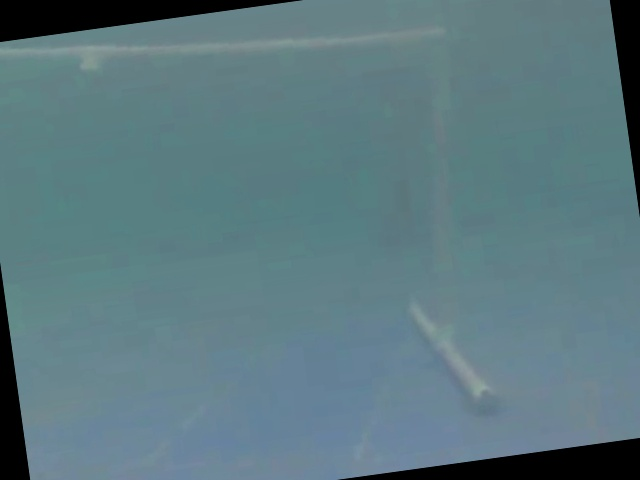gate: (3, 15, 550, 434)
